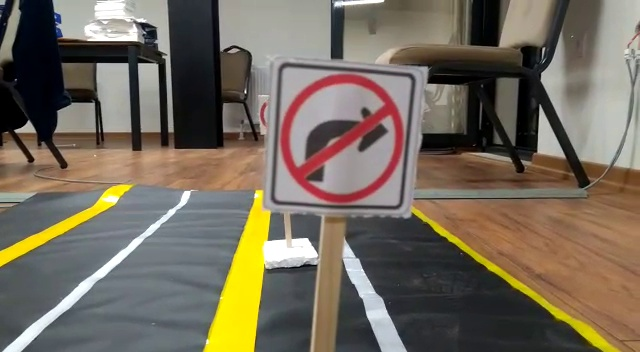saga_donulmez: (275, 67, 403, 212)
